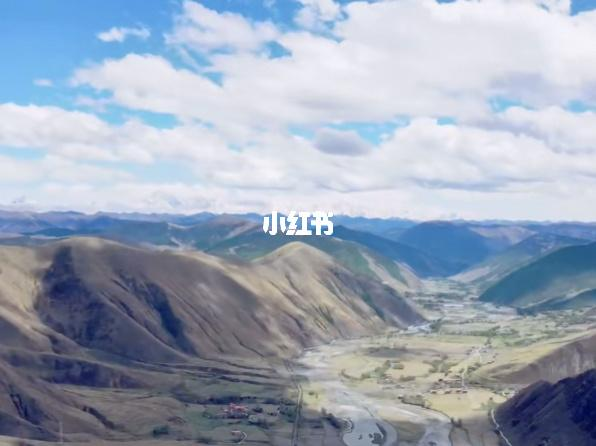mountain: (2, 233, 439, 363), (13, 194, 580, 285)
sky_cloud: (8, 1, 595, 219)
